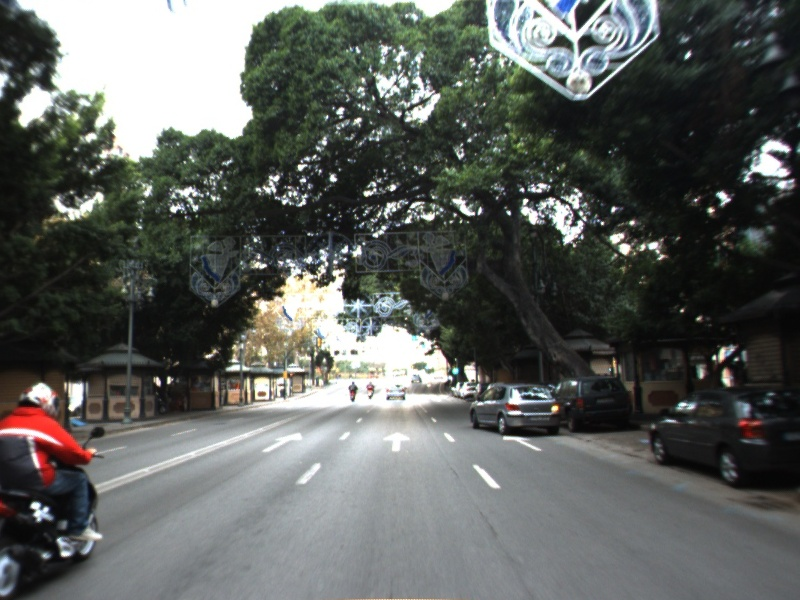STRAIGHT: (260, 430, 304, 454), (501, 433, 545, 453), (381, 430, 412, 453)
